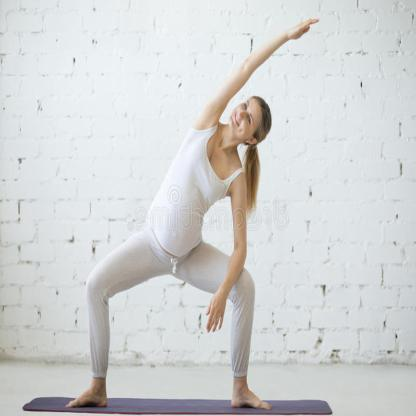godness: (48, 11, 328, 412)
